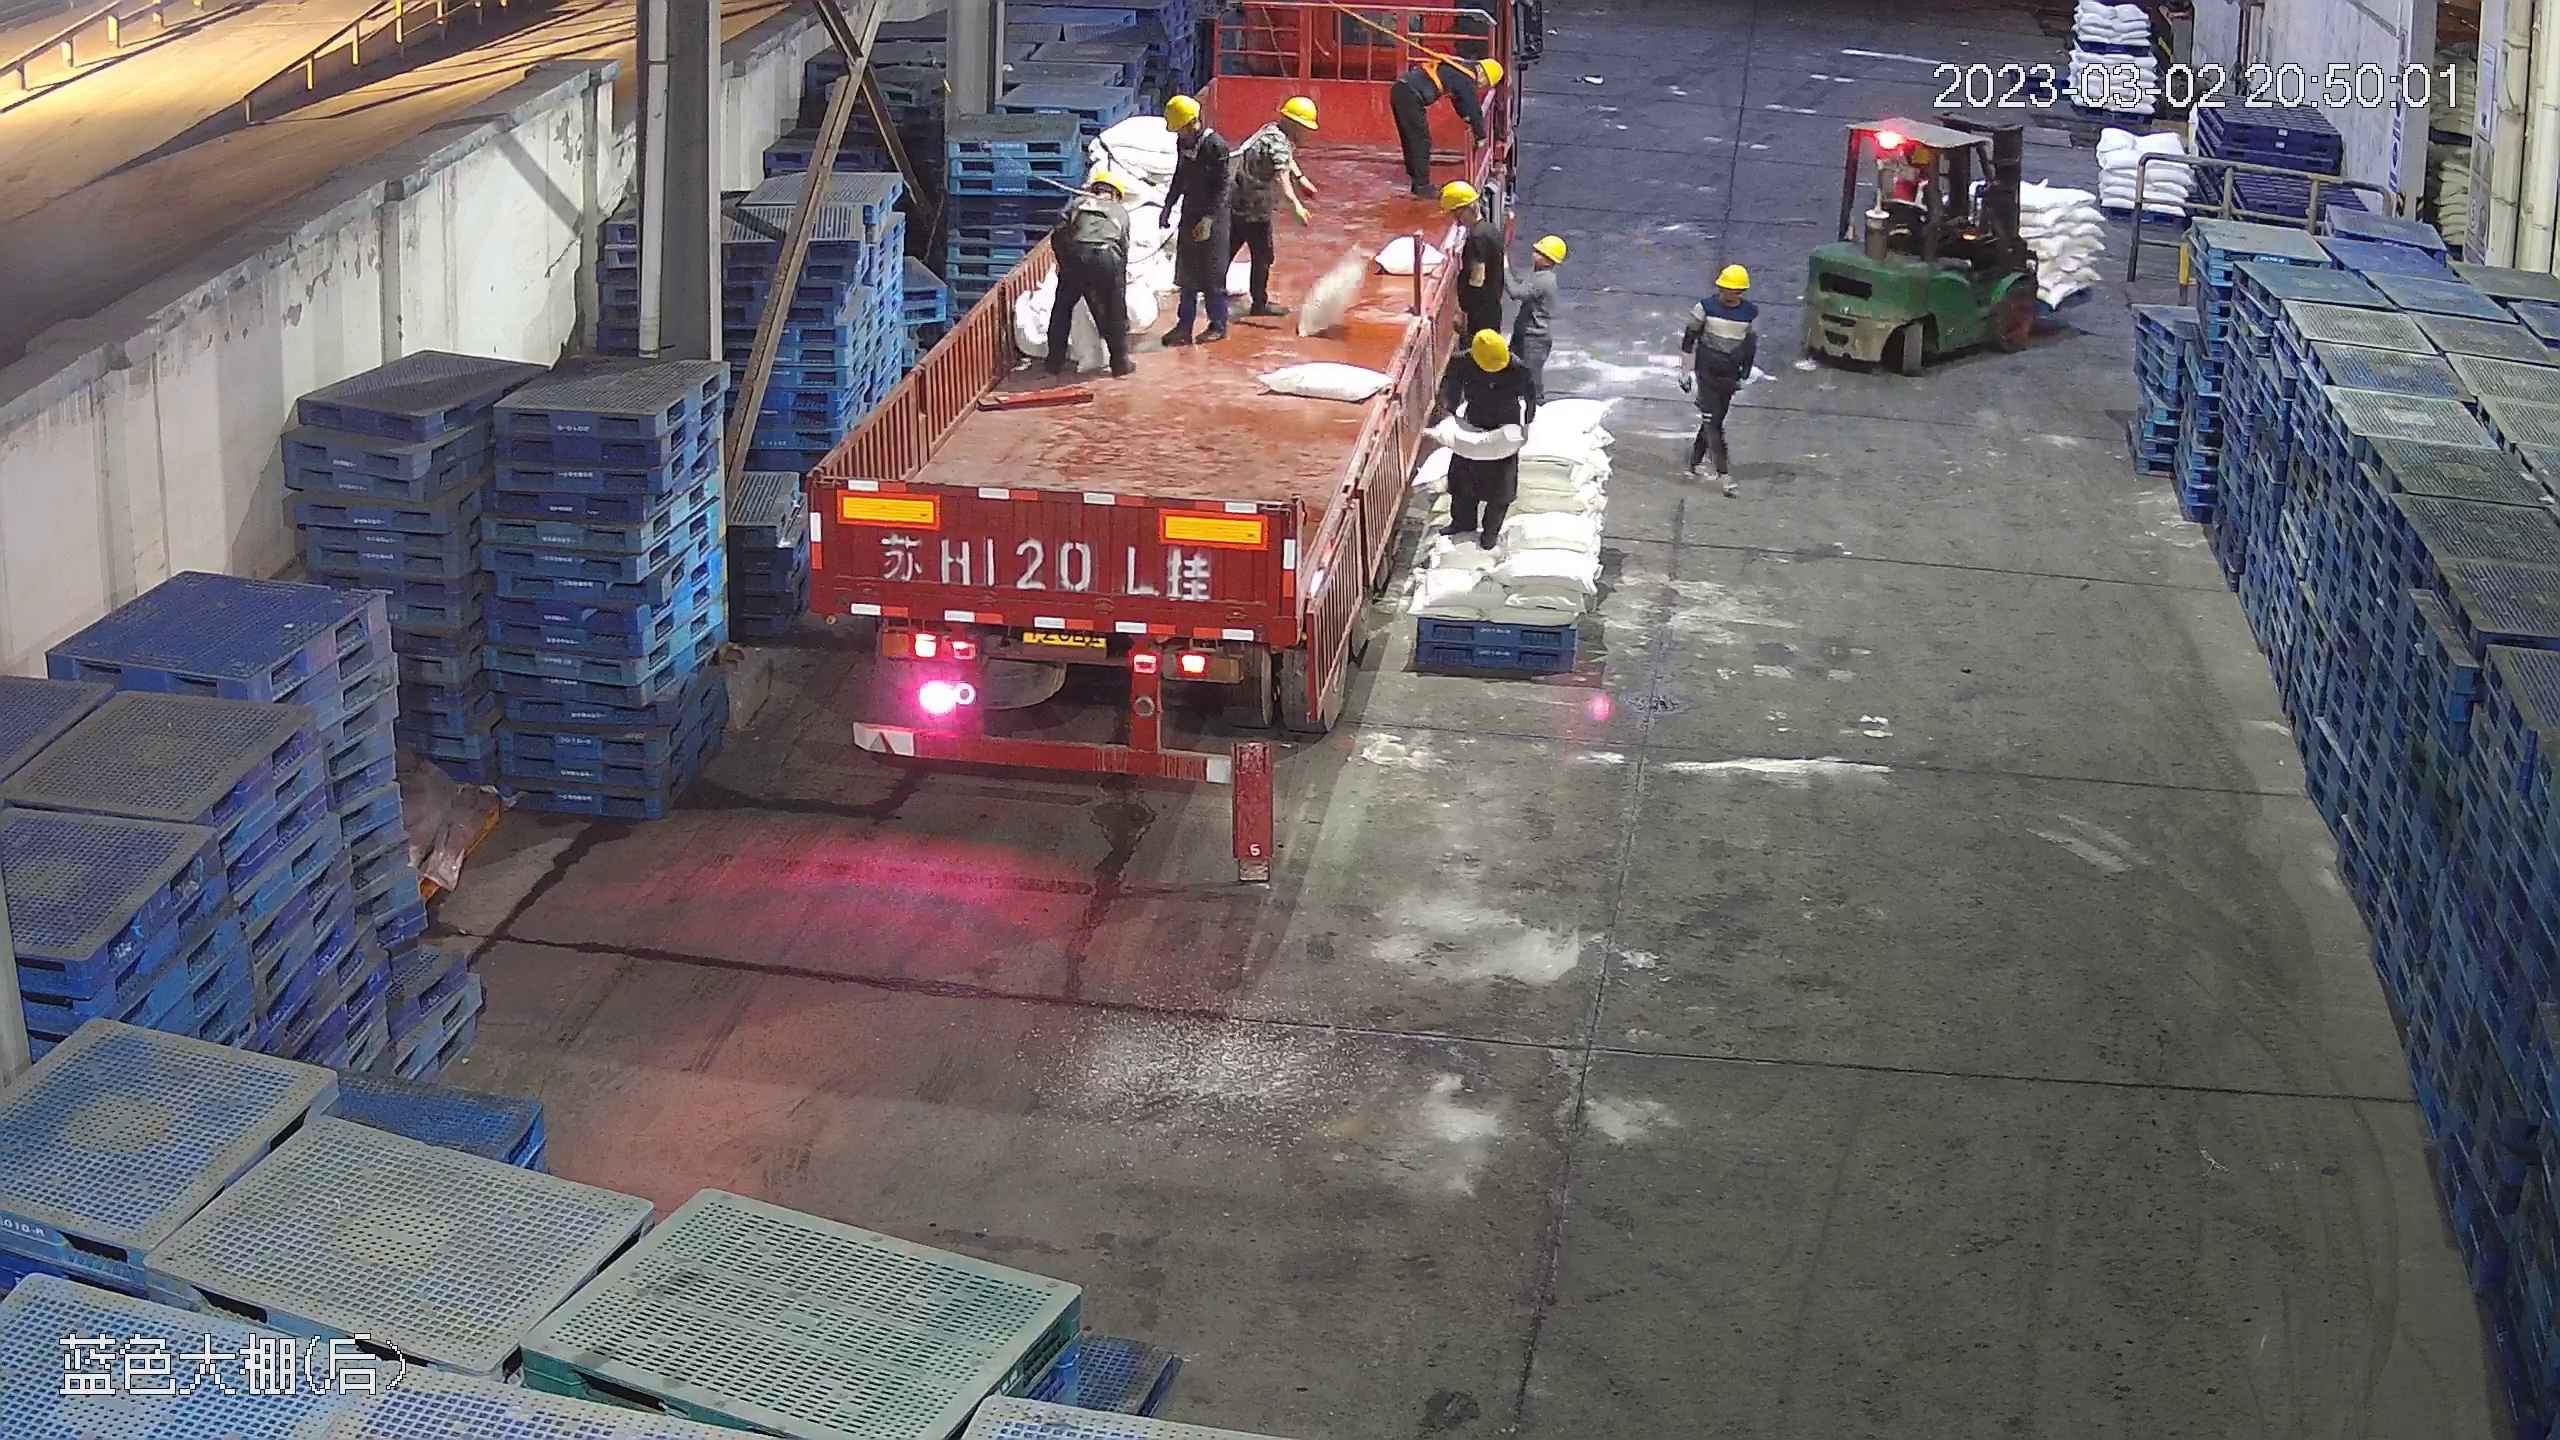belt: (1055, 189, 1120, 243), (1239, 129, 1296, 189), (1408, 51, 1463, 95), (1175, 126, 1212, 158)
head: (1239, 95, 1318, 172), (1448, 327, 1528, 404), (1160, 94, 1226, 176), (1056, 168, 1132, 232), (1693, 263, 1757, 333), (1443, 180, 1503, 250), (1514, 234, 1567, 294), (1456, 55, 1507, 99)
helmet: (1468, 325, 1508, 370), (1278, 95, 1319, 129), (1088, 168, 1128, 200), (1162, 94, 1201, 125), (1441, 179, 1481, 207), (1713, 263, 1752, 289), (1535, 234, 1566, 263), (1479, 58, 1505, 86)
people: (1429, 319, 1533, 553), (1222, 90, 1324, 325), (1153, 93, 1239, 351), (1037, 165, 1137, 372), (1678, 261, 1763, 487), (1390, 49, 1503, 205), (1494, 210, 1567, 421)
truck: (801, 48, 1539, 779)
